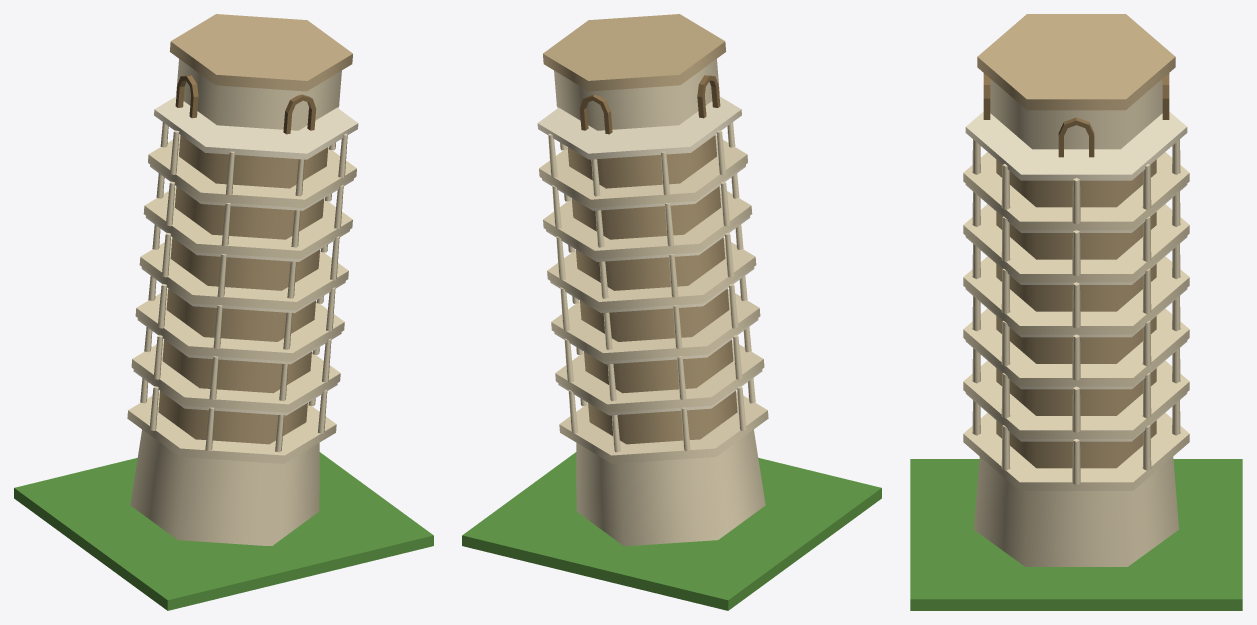
The model's file is leaning-tower-pisa.glb.
The picture shows the model from 3 angles, left to right: view 1: azimuth 30°, elevation 25°; view 2: azimuth 150°, elevation 25°; view 3: azimuth 270°, elevation 25°; orthographic projection. The views are drawn at different scales.
Visible parts, largest first — view 1: body_DDD3B7, base_A6B48F, body_B3A688, roof_BCAD8A, body_E7DEC6, roof_DDD3B7, roof_A19272; view 2: body_DDD3B7, base_A6B48F, body_B3A688, roof_BCAD8A, body_E7DEC6, roof_DDD3B7, roof_A19272; view 3: body_DDD3B7, base_A6B48F, body_B3A688, roof_BCAD8A, body_E7DEC6, roof_DDD3B7, roof_A19272.
Boxes of the visible parts, left/top/right/bottom form: body_DDD3B7: left=127, top=107, right=356, bottom=545; base_A6B48F: left=14, top=452, right=433, bottom=610; body_B3A688: left=158, top=135, right=328, bottom=444; roof_BCAD8A: left=169, top=14, right=352, bottom=91; body_E7DEC6: left=133, top=96, right=358, bottom=415; roof_DDD3B7: left=176, top=59, right=341, bottom=130; roof_A19272: left=175, top=75, right=316, bottom=134; body_DDD3B7: left=539, top=107, right=768, bottom=545; base_A6B48F: left=462, top=452, right=881, bottom=610; body_B3A688: left=567, top=135, right=737, bottom=444; roof_BCAD8A: left=543, top=14, right=726, bottom=91; body_E7DEC6: left=537, top=96, right=762, bottom=415; roof_DDD3B7: left=554, top=59, right=719, bottom=130; roof_A19272: left=579, top=75, right=720, bottom=134; body_DDD3B7: left=963, top=139, right=1189, bottom=566; base_A6B48F: left=910, top=459, right=1242, bottom=610; body_B3A688: left=996, top=159, right=1156, bottom=468; roof_BCAD8A: left=977, top=14, right=1175, bottom=110; body_E7DEC6: left=965, top=111, right=1187, bottom=441; roof_DDD3B7: left=990, top=79, right=1162, bottom=149; roof_A19272: left=983, top=73, right=1169, bottom=157.
Size of the model in its own units: 1 by 1.69 by 1.
